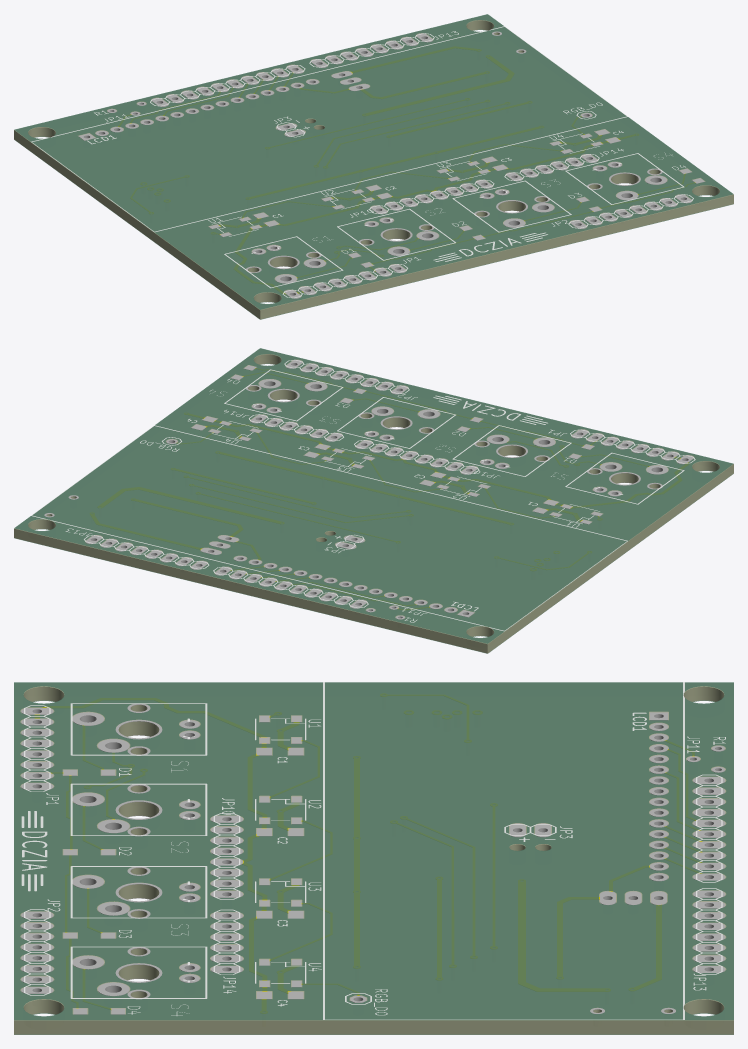
The model's file is dczia-def-con-25-badge.glb.
3 views of the same model, one above another, from view 1: azimuth 30°, elevation 25°; view 2: azimuth 150°, elevation 25°; view 3: azimuth 270°, elevation 25° (orthographic). The views are drawn at different scales.
Visible parts, largest first — view 1: =>[0:1:1:7], =>[0:1:1:9], =>[0:1:1:2], =>[0:1:1:5]; view 2: =>[0:1:1:7], =>[0:1:1:9], =>[0:1:1:2], =>[0:1:1:5]; view 3: =>[0:1:1:7], =>[0:1:1:9], =>[0:1:1:2], =>[0:1:1:5].
Boxes of the visible parts, bbox=[...] form: =>[0:1:1:7]: bbox=[14, 14, 733, 319]; =>[0:1:1:9]: bbox=[14, 15, 733, 319]; =>[0:1:1:2]: bbox=[78, 31, 704, 298]; =>[0:1:1:5]: bbox=[31, 26, 693, 298]; =>[0:1:1:7]: bbox=[14, 348, 733, 653]; =>[0:1:1:9]: bbox=[14, 349, 733, 653]; =>[0:1:1:2]: bbox=[44, 360, 693, 619]; =>[0:1:1:5]: bbox=[31, 359, 695, 631]; =>[0:1:1:7]: bbox=[14, 682, 733, 1034]; =>[0:1:1:9]: bbox=[14, 683, 733, 1034]; =>[0:1:1:2]: bbox=[21, 694, 725, 1014]; =>[0:1:1:5]: bbox=[21, 682, 725, 1019].
Bounding box in the file's own units: 0.08 × 0.00166 × 0.072.
Materials: 4 (4 with a texture image).
